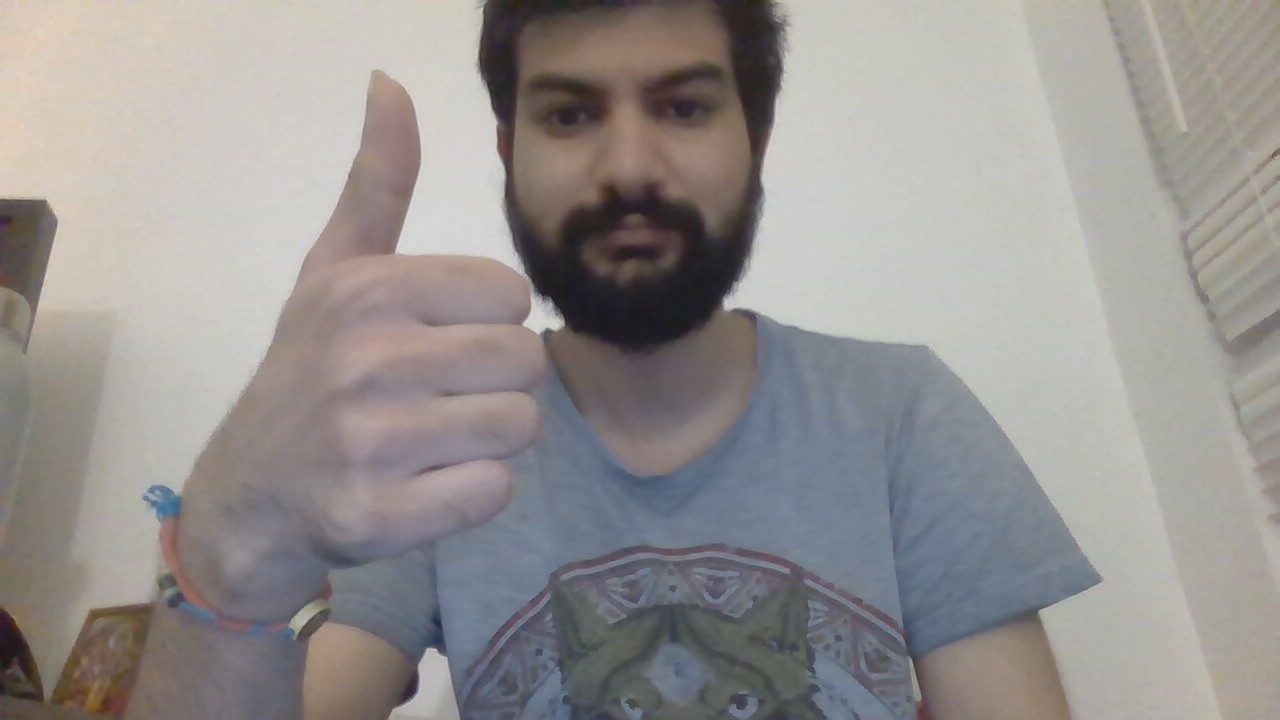up: (247, 67, 549, 569)
